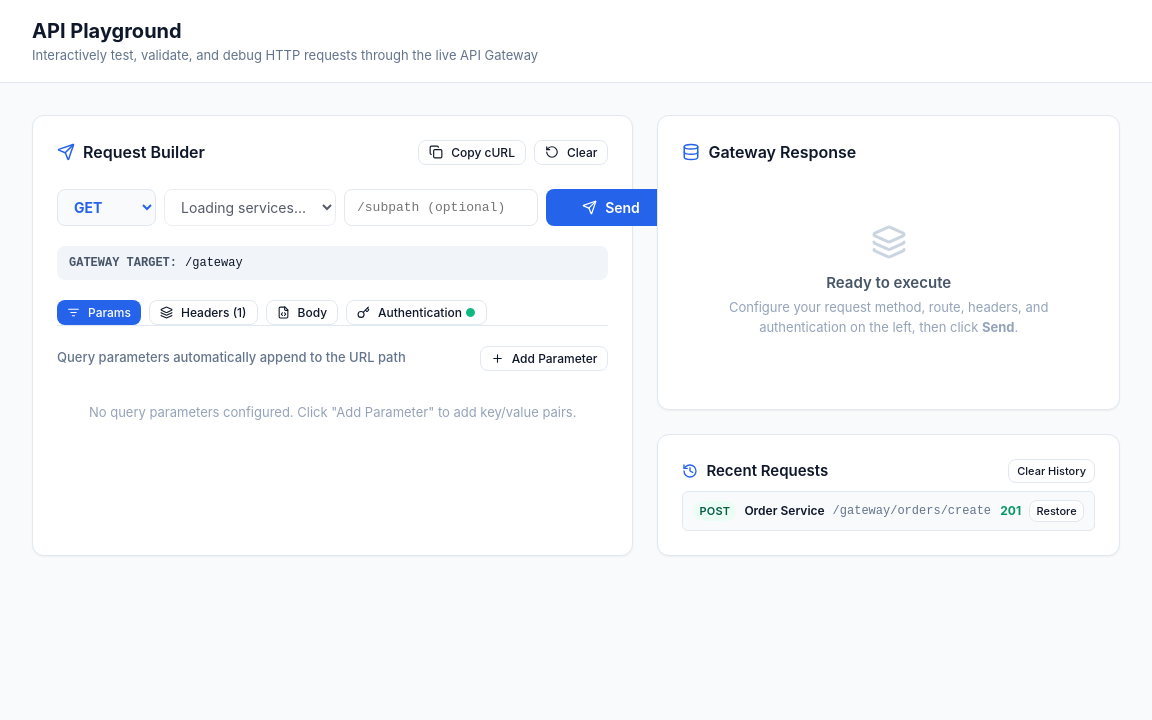
Test: PlaygroundPage Component › restores previous request configuration from history without storing raw secrets
The width and height of the screenshot is (1152, 720).
Expected: the heading "Recent Requests" is shown, [706,460,828,482]
Expected: the text "/gateway/orders/create" is shown, [833,502,991,520]
Click the button "Restore": (1057, 511) [1029,500,1084,522]
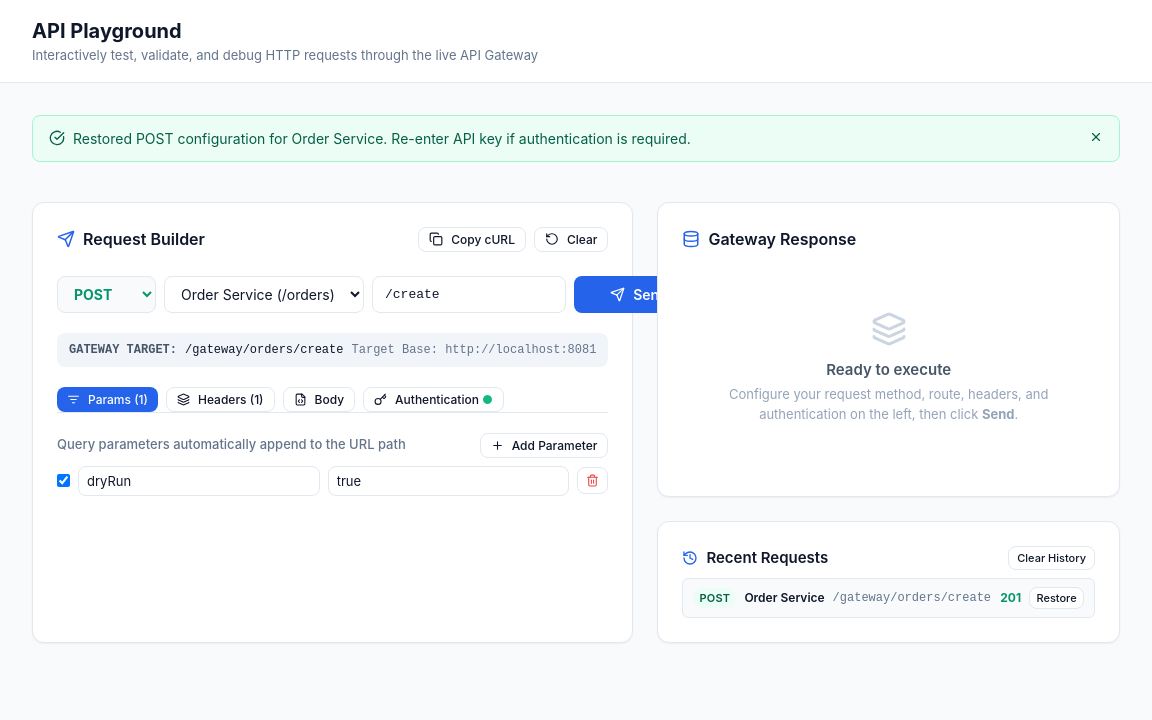
Result: the 1st dropdown showing "POST" is shown at [57,276,156,312]
Result: the 1st field showing "/create" is shown at [372,276,566,312]
Result: the text "Restored POST configuration for Order Service" is shown at [73,130,691,146]
